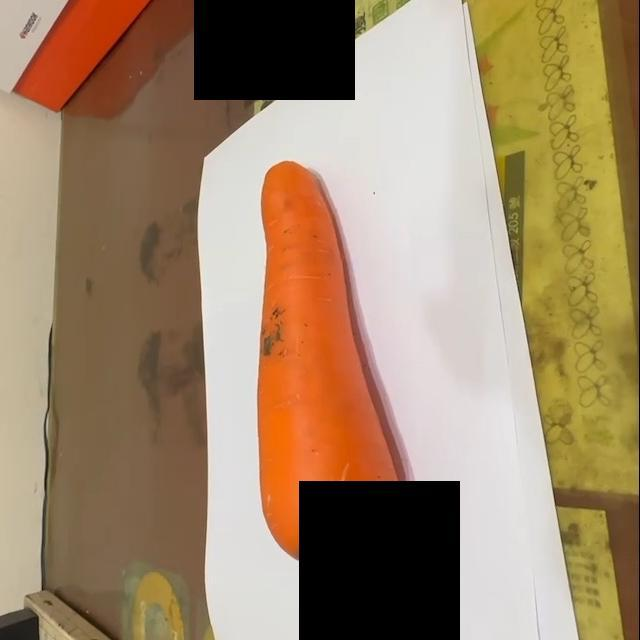carrot: (255, 162, 411, 608)
